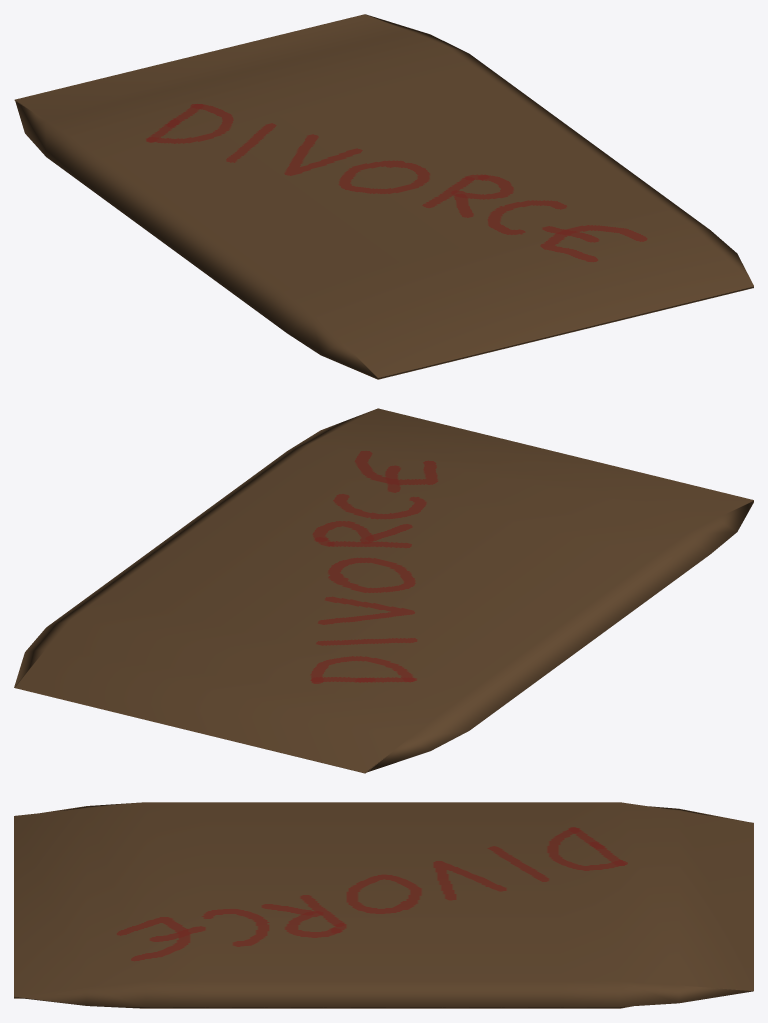
File: enveloppe.fbx
3 views of the same model, one above another, from view 1: azimuth 30°, elevation 25°; view 2: azimuth 150°, elevation 25°; view 3: azimuth 270°, elevation 25° (orthographic).
Parts seen in each view (by area): view 1: Cube; view 2: Cube; view 3: Cube.
Boxes of the visible parts, x1=… form: Cube: x1=14, y1=14, x2=753, y2=379; Cube: x1=14, y1=408, x2=753, y2=773; Cube: x1=14, y1=802, x2=753, y2=1008.
Bounding box in the file's own units: 628 × 39.56 × 967.
